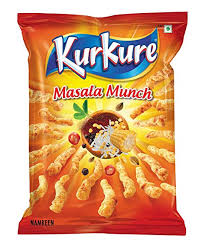kurkure: (50, 31, 164, 78)
plastic: (18, 13, 194, 237)
wrapper: (36, 30, 176, 225)
